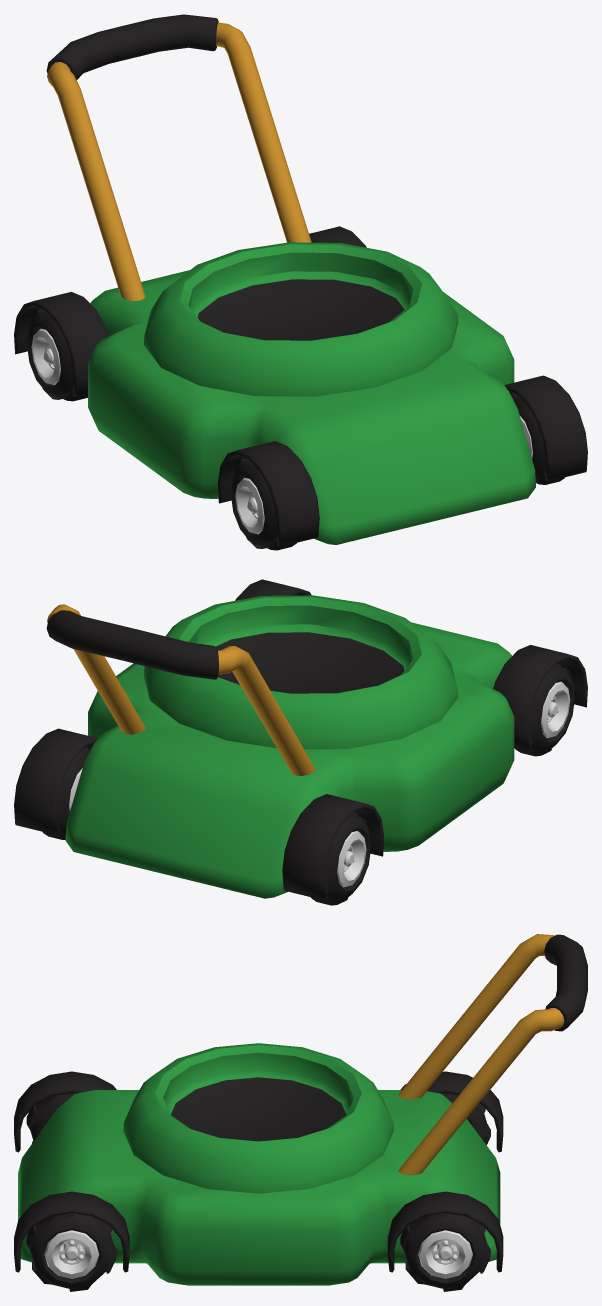
Rendered from Lawnmower_Body.fbx.
3 views of the same model, one above another, from view 1: azimuth 30°, elevation 25°; view 2: azimuth 150°, elevation 25°; view 3: azimuth 270°, elevation 25° (orthographic). The views are drawn at different scales.
Visible parts, largest first — view 1: Lawnmower_Body, Lawnmower_Socket, Lawnmower_Handle, Wheel_Guards, Wheel, Wheel_Bearing; view 2: Lawnmower_Body, Lawnmower_Socket, Wheel_Guards, Lawnmower_Handle, Wheel, Wheel_Bearing; view 3: Lawnmower_Body, Lawnmower_Socket, Lawnmower_Handle, Wheel_Guards, Wheel, Wheel_Bearing.
Part boxes in pixels (x1,y1,x2,y2): Lawnmower_Body: (88, 270, 535, 544); Lawnmower_Socket: (143, 242, 458, 396); Lawnmower_Handle: (46, 14, 311, 300); Wheel_Guards: (14, 226, 587, 546); Wheel: (27, 309, 564, 550); Wheel_Bearing: (31, 328, 532, 534); Lawnmower_Body: (65, 622, 514, 898); Lawnmower_Socket: (143, 595, 458, 749); Wheel_Guards: (14, 579, 587, 899); Lawnmower_Handle: (46, 604, 315, 775); Wheel: (42, 663, 574, 905); Wheel_Bearing: (69, 681, 570, 887); Lawnmower_Body: (18, 1090, 500, 1285); Lawnmower_Socket: (123, 1043, 393, 1193); Lawnmower_Handle: (398, 934, 587, 1175); Wheel_Guards: (14, 1071, 503, 1272); Wheel: (26, 1093, 490, 1291); Wheel_Bearing: (44, 1230, 472, 1278).
Size of the model in its own units: 127 by 105 by 207.
